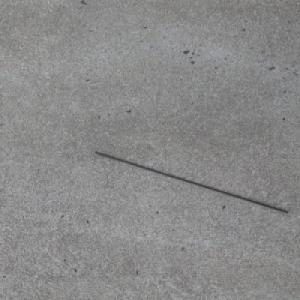LuggagePart: (92, 151, 289, 213)
